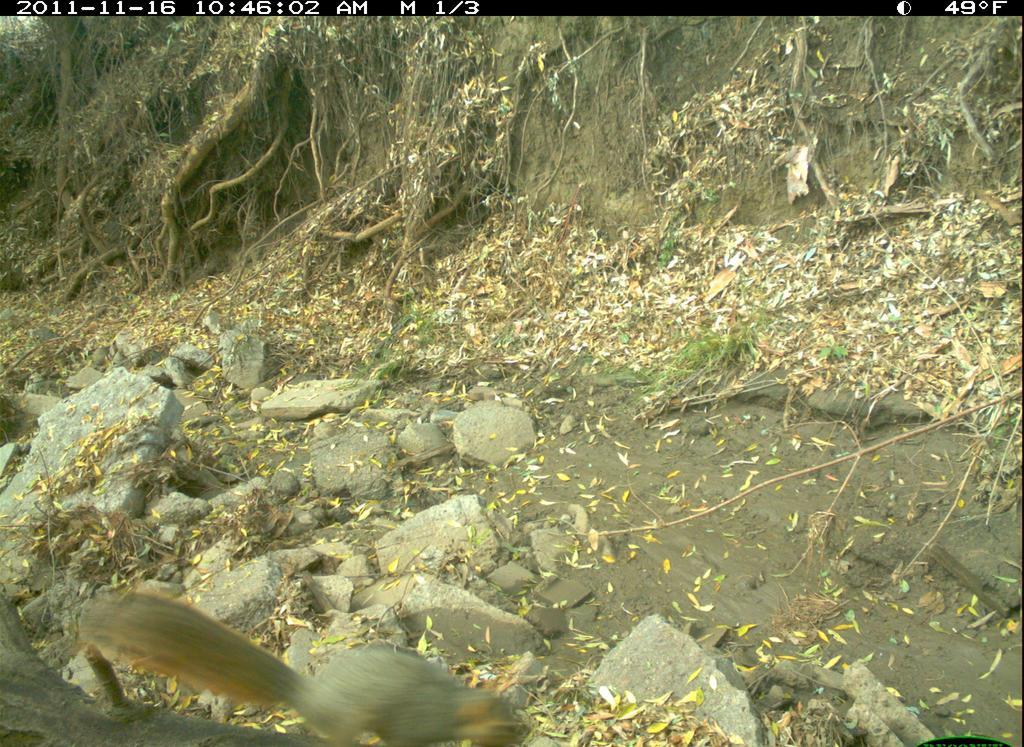squirrel: (70, 586, 534, 747)
